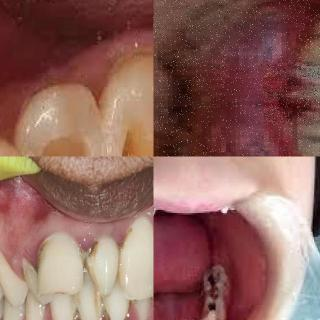Gum Swelling: (0, 207, 154, 282)
calculus: (66, 238, 100, 283), (29, 228, 52, 278), (110, 225, 134, 262), (91, 293, 120, 320), (20, 257, 42, 292), (63, 293, 87, 320)
cavities: (36, 129, 104, 157), (200, 269, 228, 295), (205, 296, 223, 314)
maligned: (36, 226, 82, 298), (86, 234, 118, 300), (22, 256, 50, 304)
